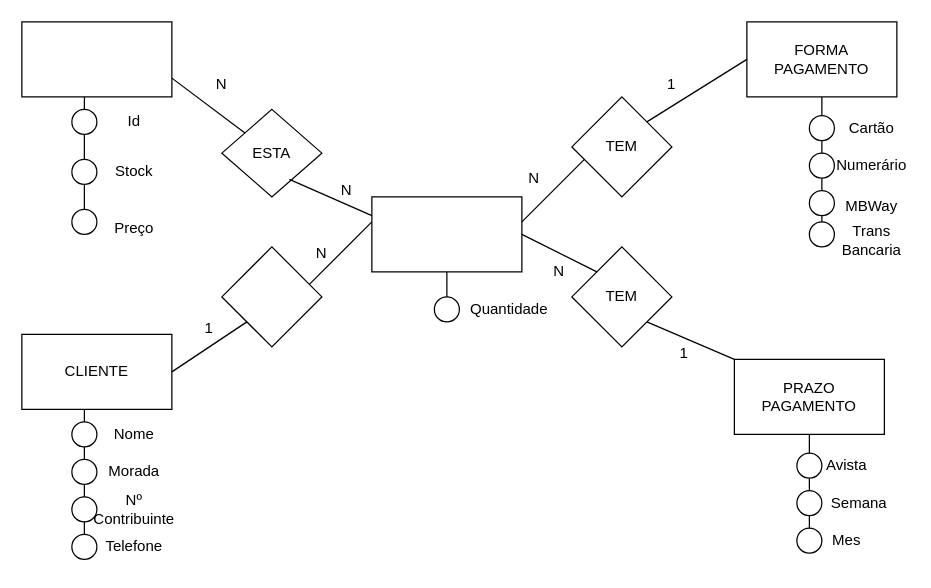
This 931x588 diagram has some shape labels left out. The shapes that lost their labels are listed below. From the top down, each one's box as (x1, y1, x2, y2) in pixels, then its label:
(21, 21, 172, 97): PRODUTO
(371, 196, 522, 272): COMPRA
(221, 246, 322, 347): FAZ
